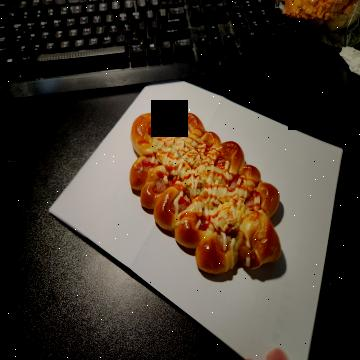pizza_bread: (130, 112, 282, 278)
